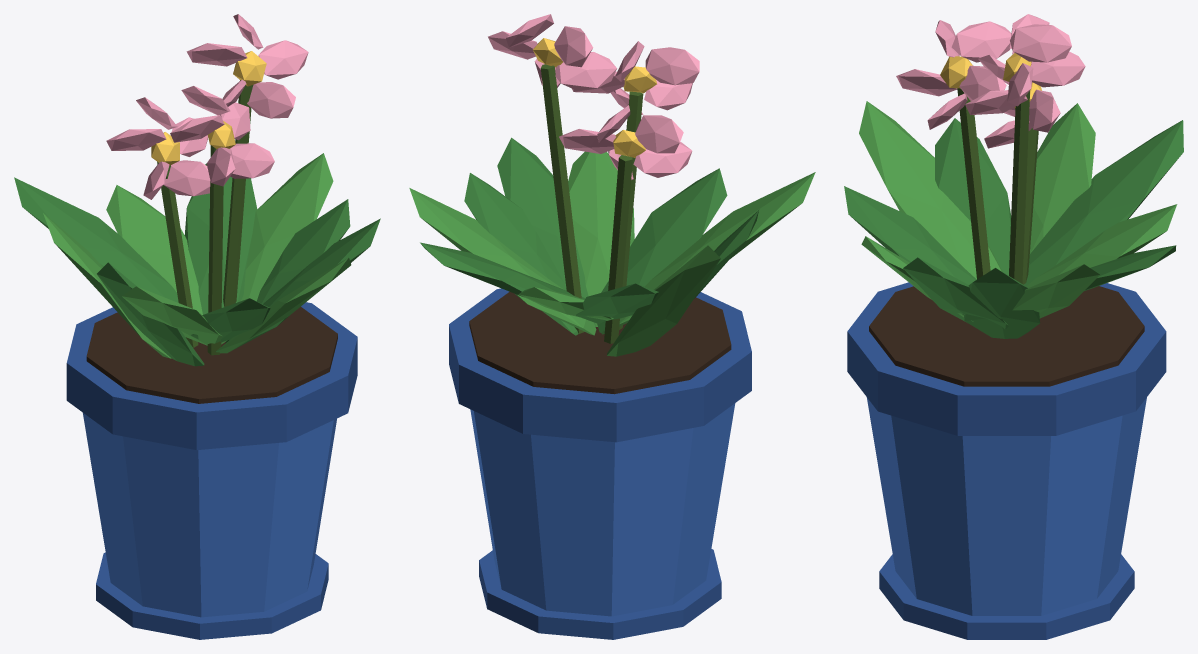
File: flowerPot.glb
3 renders of one model, left to right at view 1: azimuth 30°, elevation 25°; view 2: azimuth 150°, elevation 25°; view 3: azimuth 270°, elevation 25°, orthographic. The views are drawn at different scales.
Visible parts, largest first — view 1: flowerPot; view 2: flowerPot; view 3: flowerPot.
Boxes of the visible parts, x1,y1,x2,y2 form: flowerPot: (14, 14, 380, 639); flowerPot: (409, 14, 815, 639); flowerPot: (844, 14, 1183, 639).
Size of the model in its own units: 0.2815 by 0.5087 by 0.2663.
